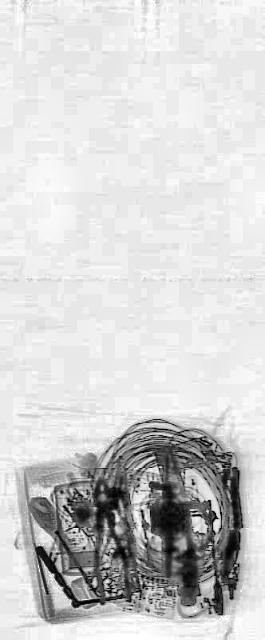Pliers: (85, 466, 132, 620)
